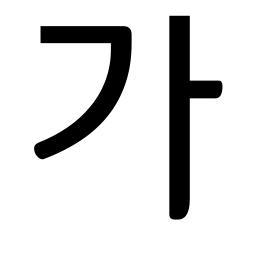Gaji: (158, 68, 207, 114)
